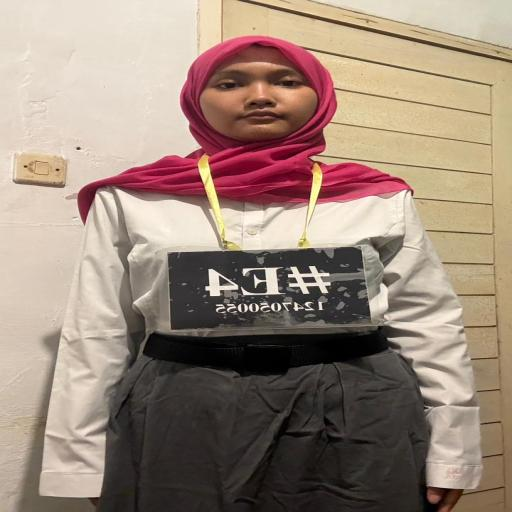kemeja_benar: (62, 174, 459, 344)
kerudung_benar: (116, 34, 402, 204)
nametag_ada: (160, 160, 385, 342)
rok_salah: (121, 358, 424, 512)
sabuk_ada: (142, 333, 393, 368)
